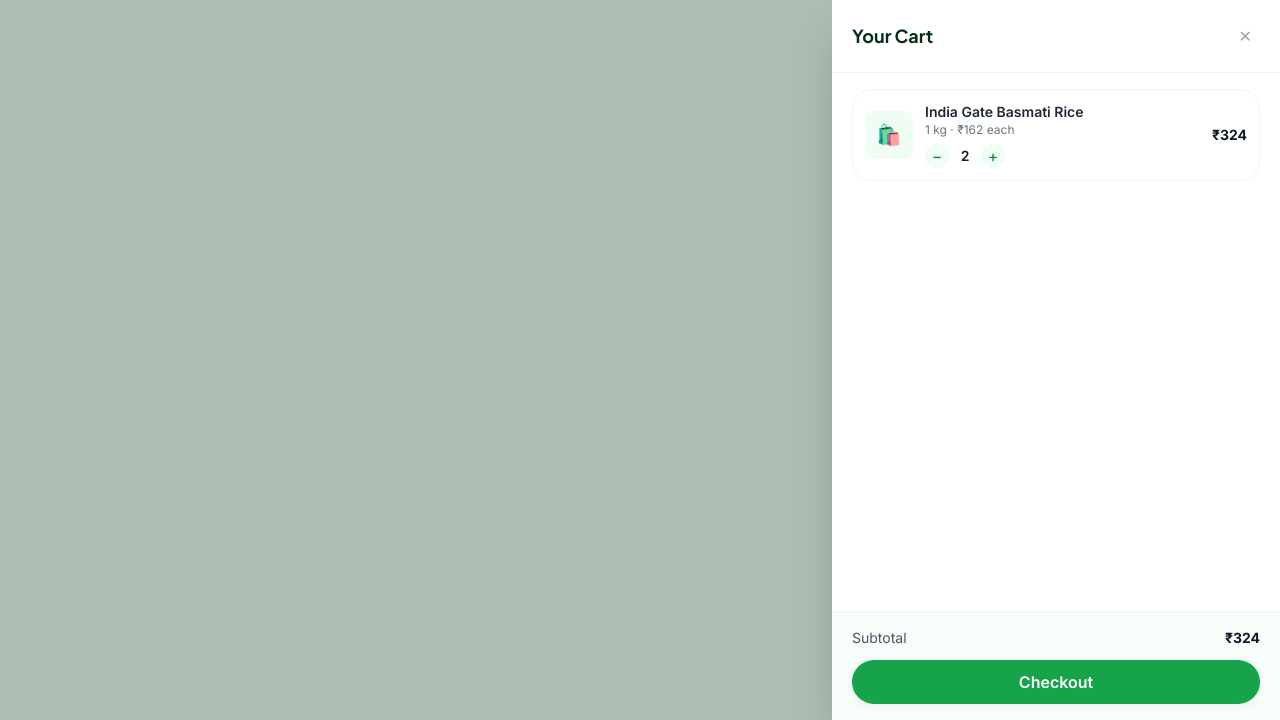
Test case: CartDrawer quantity buttons › clears any previous error and updates the cart on a successful decrease
Expected: the text "India Gate Basmati Rice" is shown, left=925, top=103, right=1084, bottom=120
Click the button named "Decrease quantity of Basmati Rice": point(937, 156) left=925, top=144, right=949, bottom=168
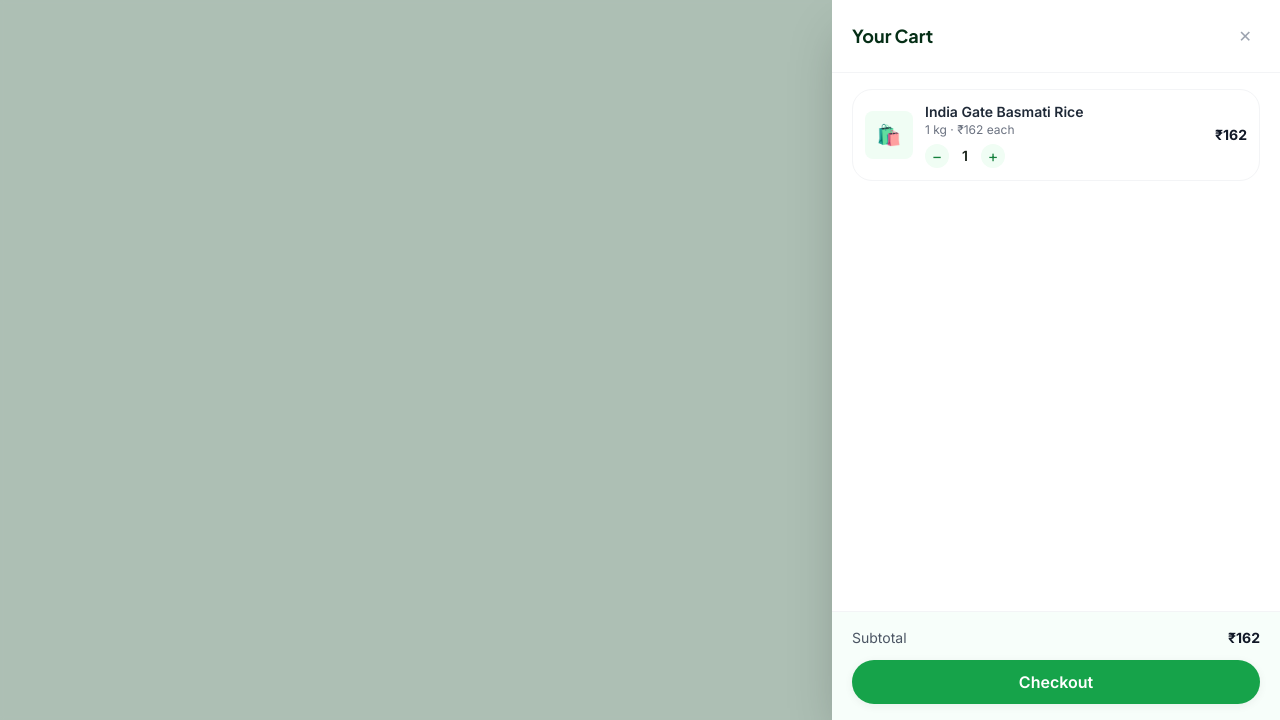
Result: the text "1" is shown at left=962, top=147, right=968, bottom=164
